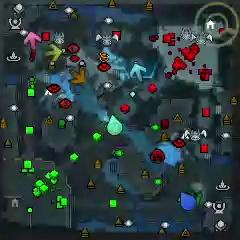p1: (180, 191, 196, 209)
p2: (107, 114, 123, 135)
x1: (23, 31, 41, 51)
x2: (44, 43, 62, 63)
x3: (130, 63, 147, 81)
x4: (187, 191, 203, 208)
x5: (69, 67, 87, 85)
